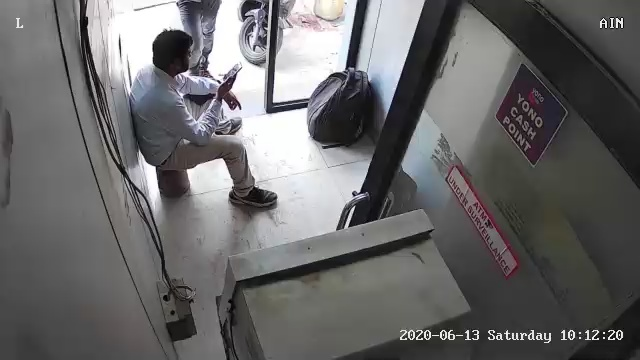open: (109, 5, 384, 134)
